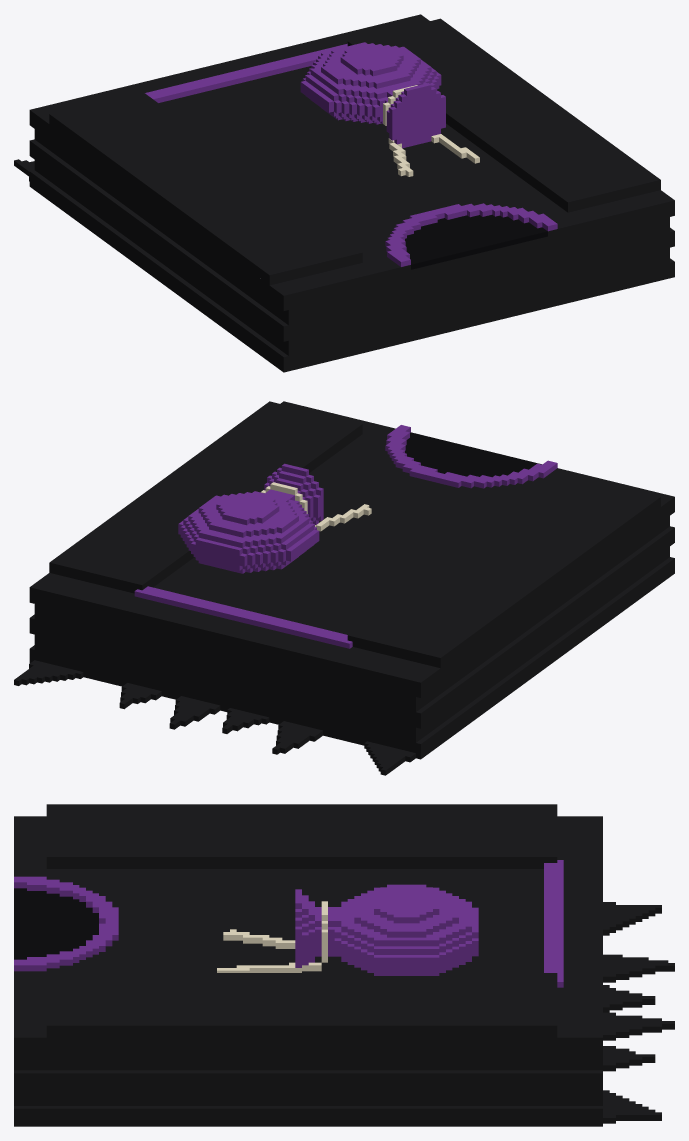
File: witch_dress_long.glb
3 renders of one model, top to bottom at view 1: azimuth 30°, elevation 25°; view 2: azimuth 150°, elevation 25°; view 3: azimuth 270°, elevation 25°, orthographic. The views are drawn at different scales.
Visible parts, largest first — view 1: witch_dress_long:compound; view 2: witch_dress_long:compound; view 3: witch_dress_long:compound.
Part boxes in pixels (x1=…): witch_dress_long:compound: x1=14, y1=14, x2=674, y2=372; witch_dress_long:compound: x1=14, y1=401, x2=674, y2=775; witch_dress_long:compound: x1=14, y1=804, x2=674, y2=1126.
Size of the model in its own units: 0.32 by 0.104 by 0.404.
